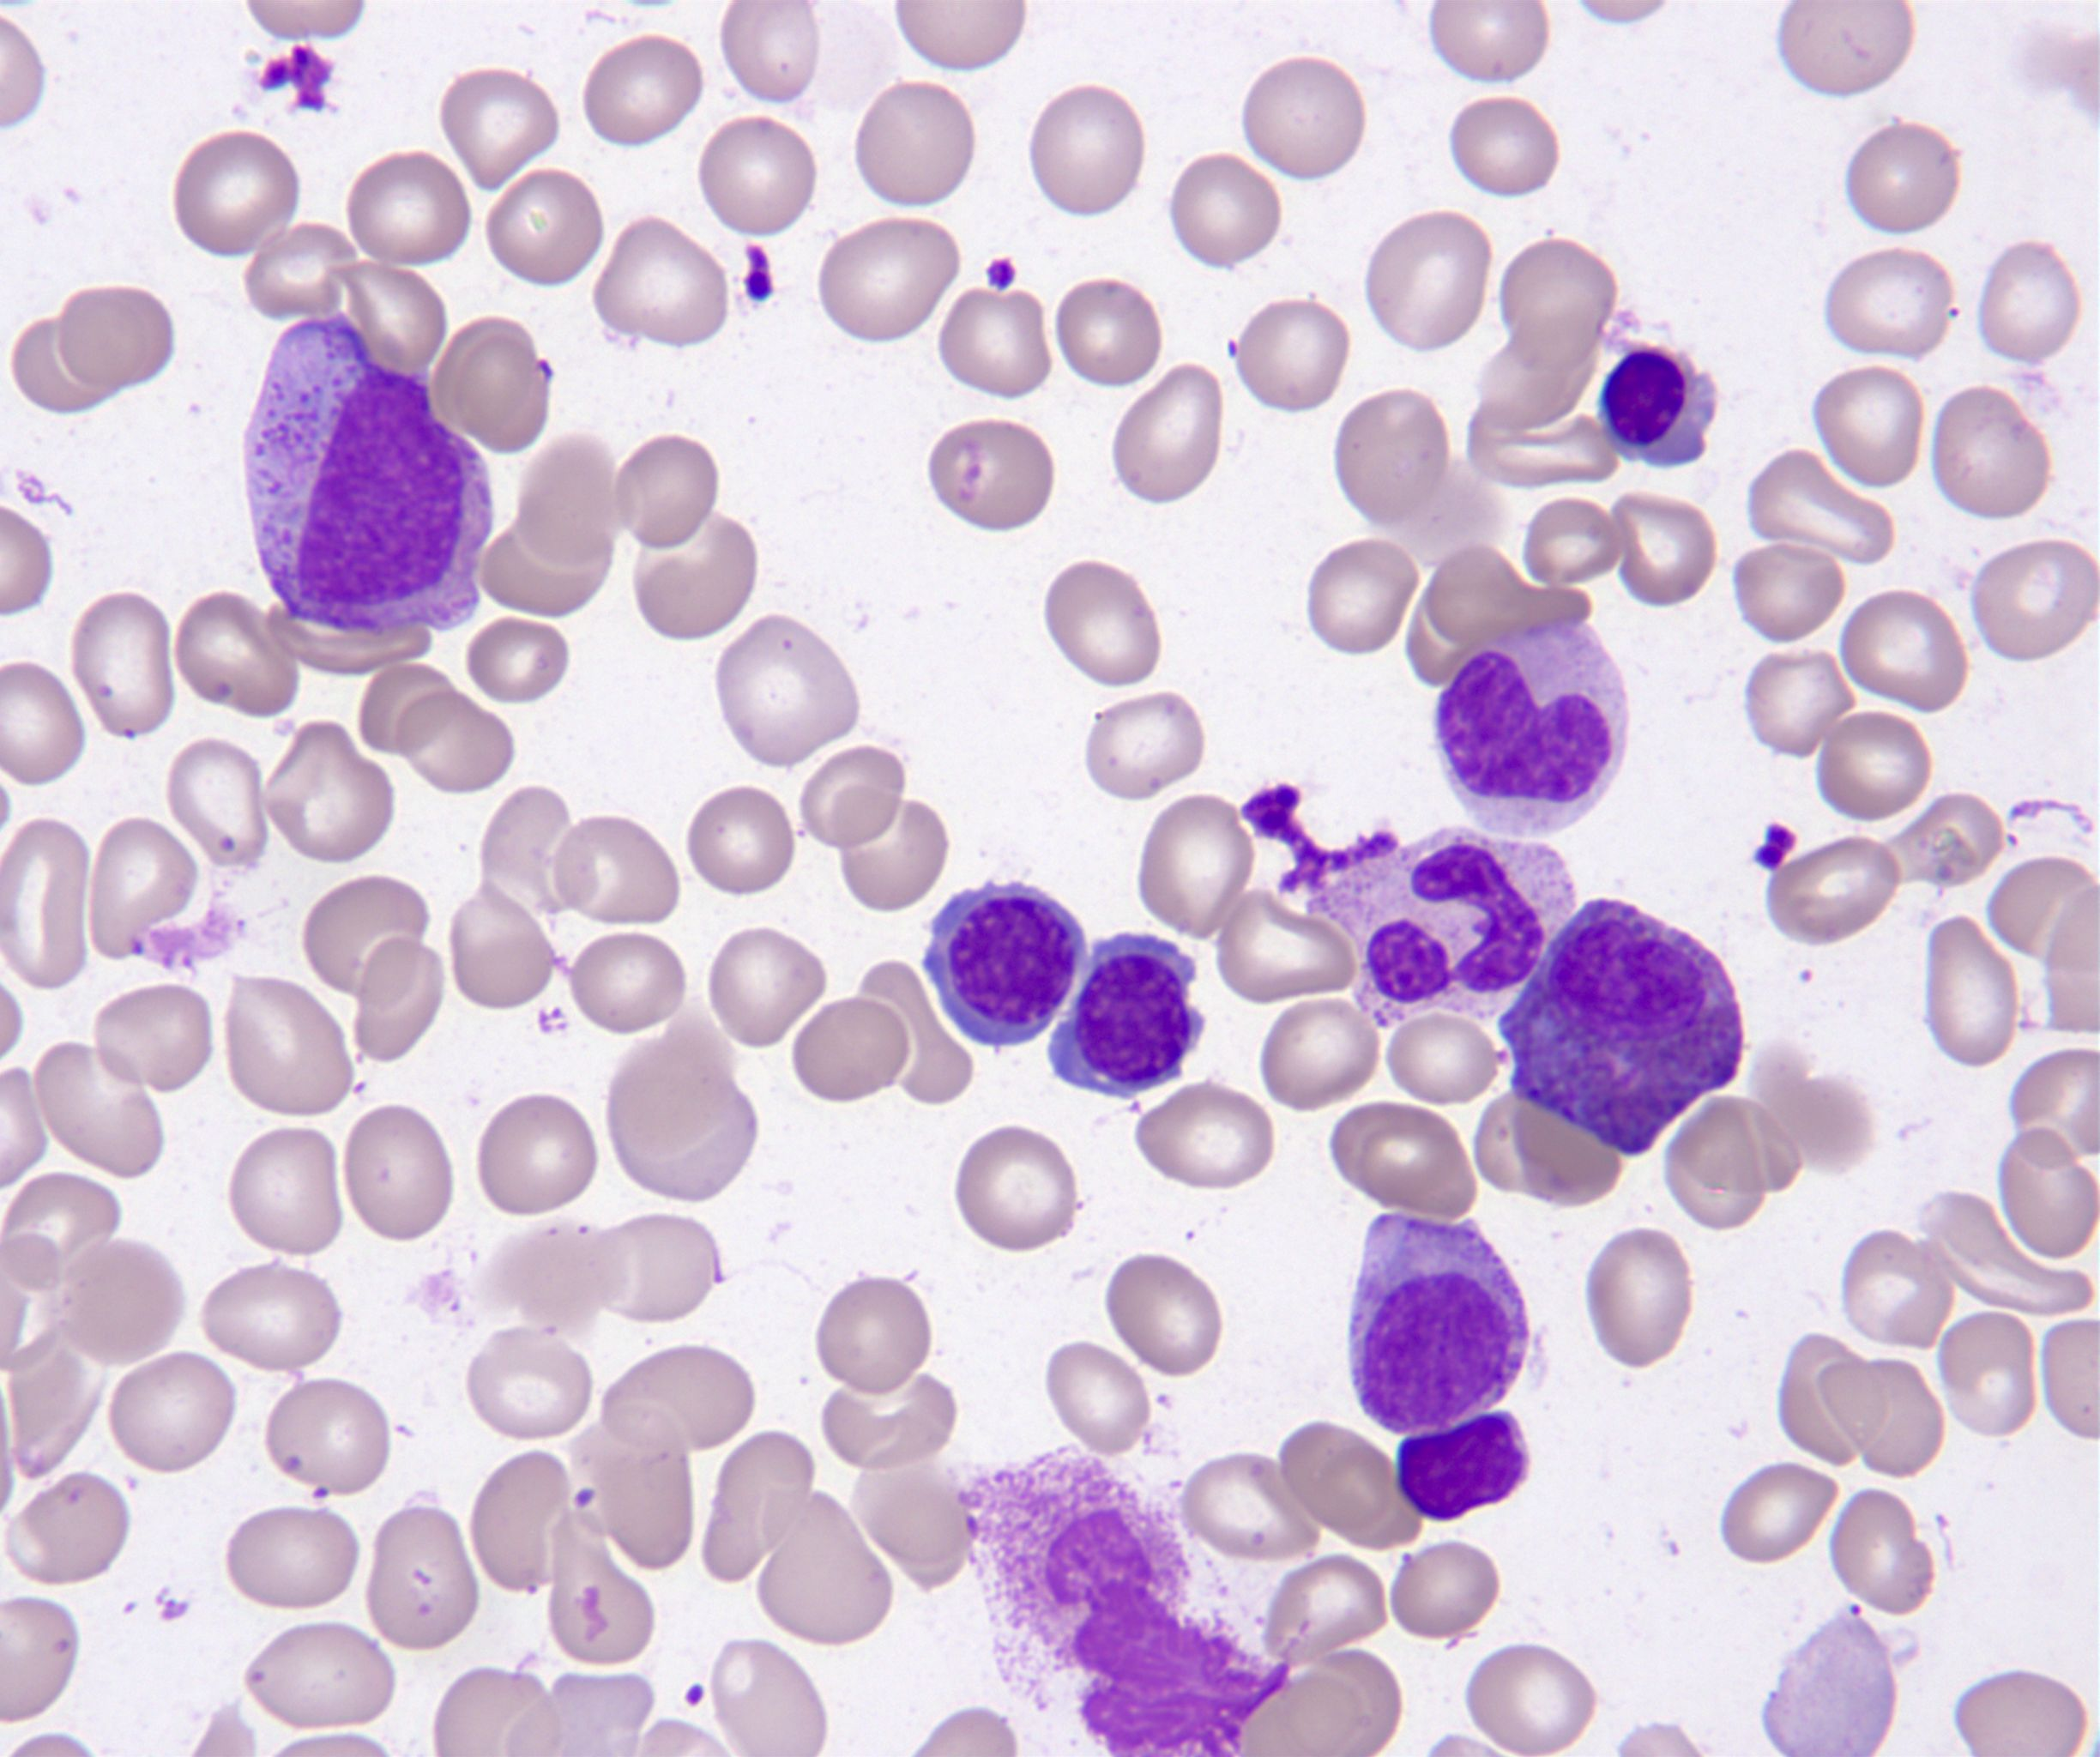2: (242, 318, 490, 630)
23: (926, 883, 1087, 1043), (1052, 935, 1207, 1101)
24: (1598, 347, 1716, 466)
3: (1347, 1211, 1528, 1436)
32: (1397, 1412, 1528, 1521)
4: (1437, 619, 1631, 837)
6: (1312, 825, 1578, 1024)
E2: (1503, 900, 1739, 1157)
x: (961, 1445, 1292, 1757)
